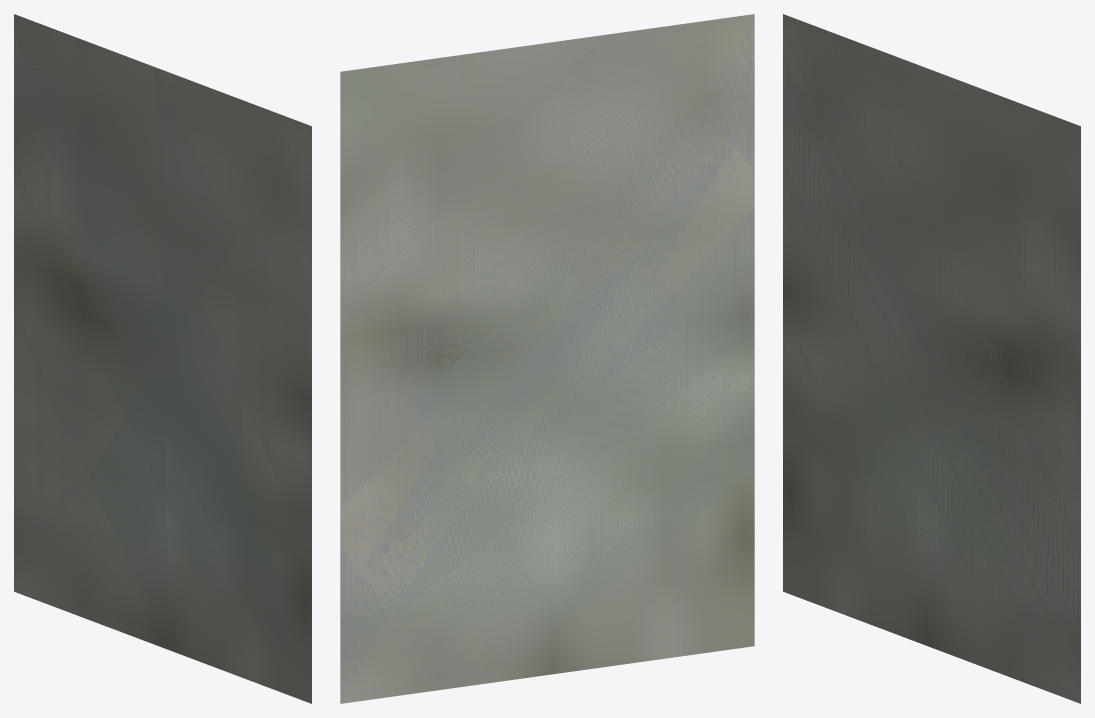
The model's file is 西庸城堡334.dae.
3 renders of one model, left to right at view 1: azimuth 90°, elevation 25°; view 2: azimuth 150°, elevation 25°; view 3: azimuth 270°, elevation 25°, orthographic. The views are drawn at different scales.
Visible parts, largest first — view 1: SketchUp; view 2: SketchUp; view 3: SketchUp.
Boxes of the visible parts, bbox=[...] form: SketchUp: bbox=[14, 14, 311, 703]; SketchUp: bbox=[340, 14, 754, 703]; SketchUp: bbox=[783, 14, 1080, 703].
Size of the model in its own units: 13.13 by 14.71 by 31.5.
